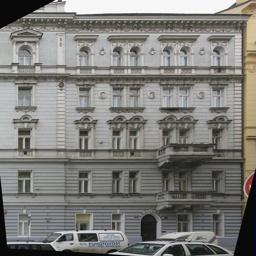building: (0, 1, 248, 238)
